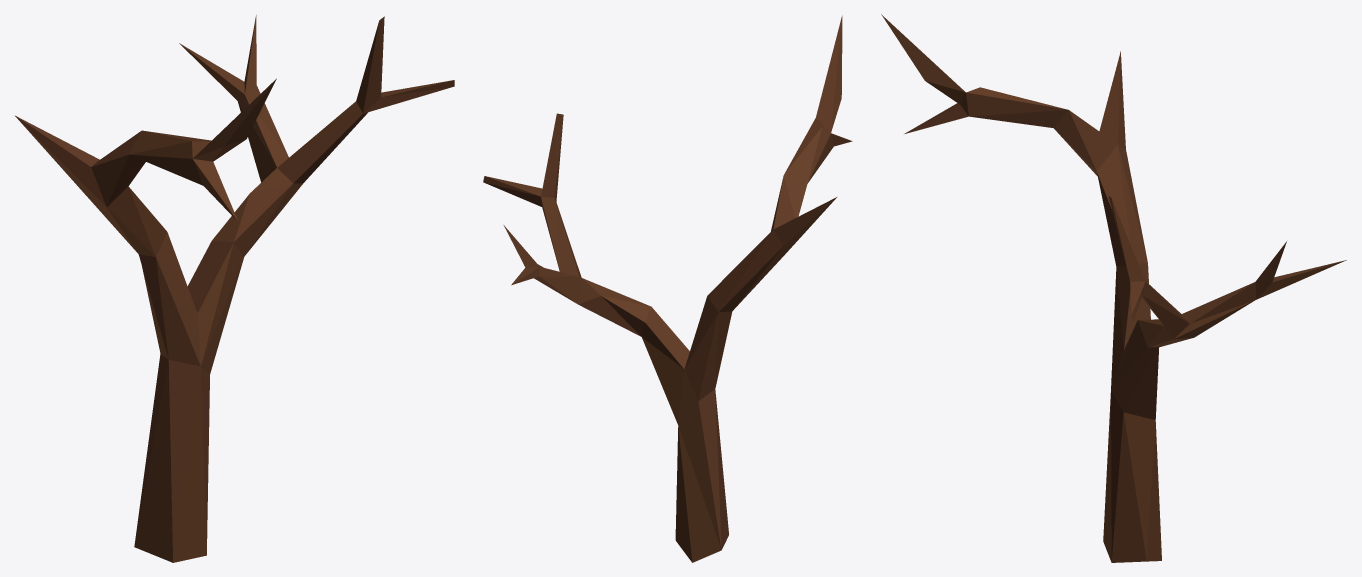
The model's file is TwigTree2.fbx.
3 renders of one model, left to right at view 1: azimuth 30°, elevation 25°; view 2: azimuth 150°, elevation 25°; view 3: azimuth 270°, elevation 25°, orthographic. The views are drawn at different scales.
Parts seen in each view (by area): view 1: TwigTree2; view 2: TwigTree2; view 3: TwigTree2.
Boxes of the visible parts, <box> form: TwigTree2: <box>15,15,454,562</box>; TwigTree2: <box>483,15,852,562</box>; TwigTree2: <box>881,14,1346,562</box>.
Bounding box in the file's own units: 84.19 × 107 × 85.3.
